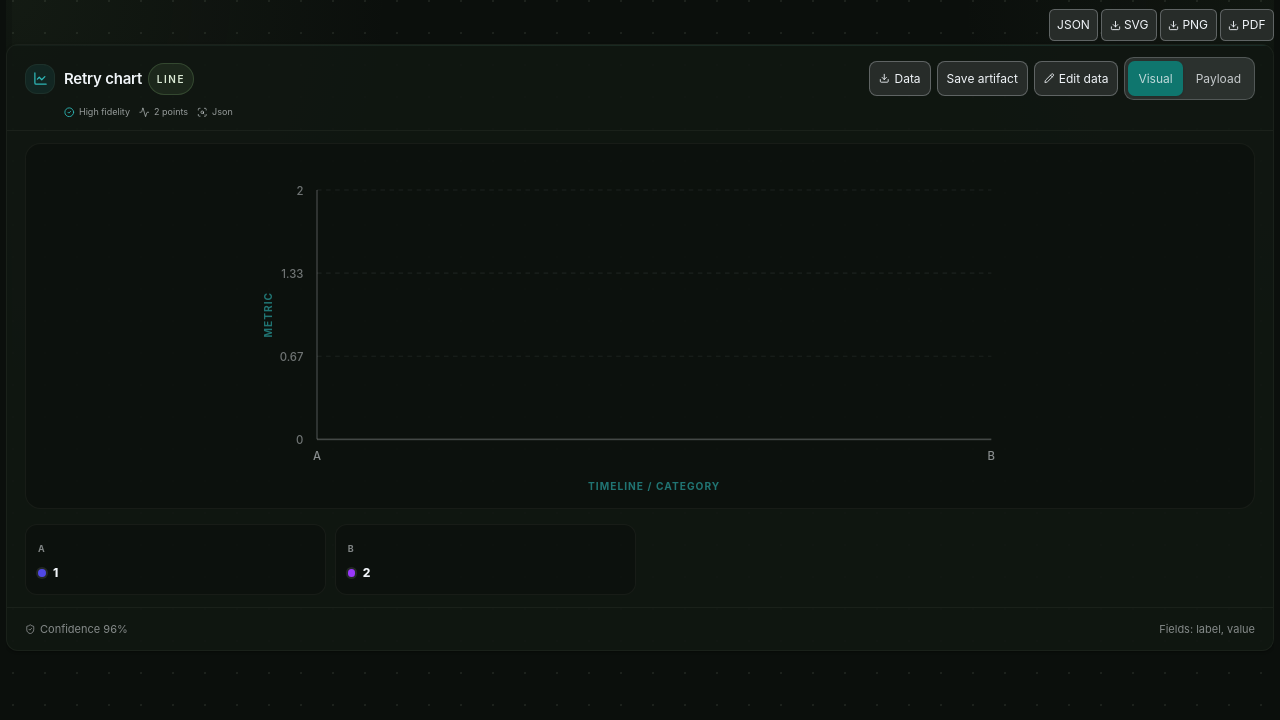
DeepSpace markdown streaming › keeps chart edits open when saving the revision fails
Click the button "Edit data" at (1076, 78), box [1034,61,1118,96]
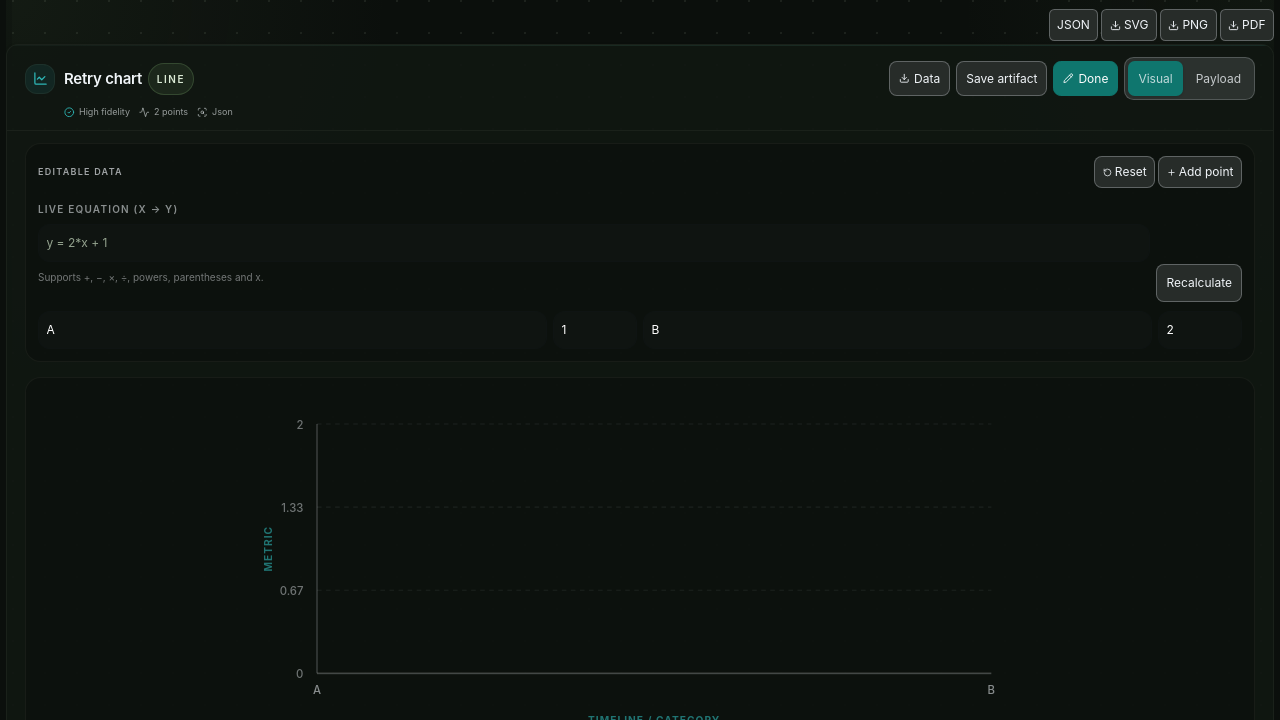
Replace the text in the number field named "Chart point 1 value" with "9" at (595, 330), box [553,310,637,348]
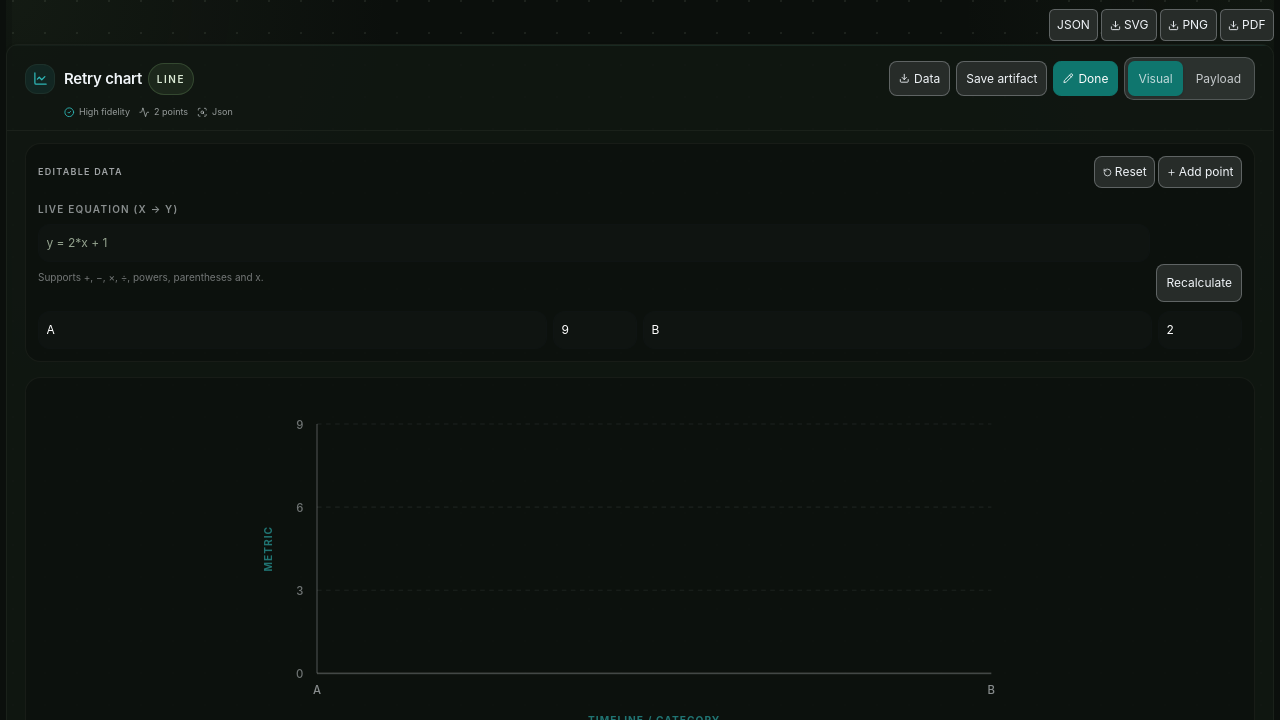
Click the button "Done" at (1086, 78), box [1053,61,1118,96]
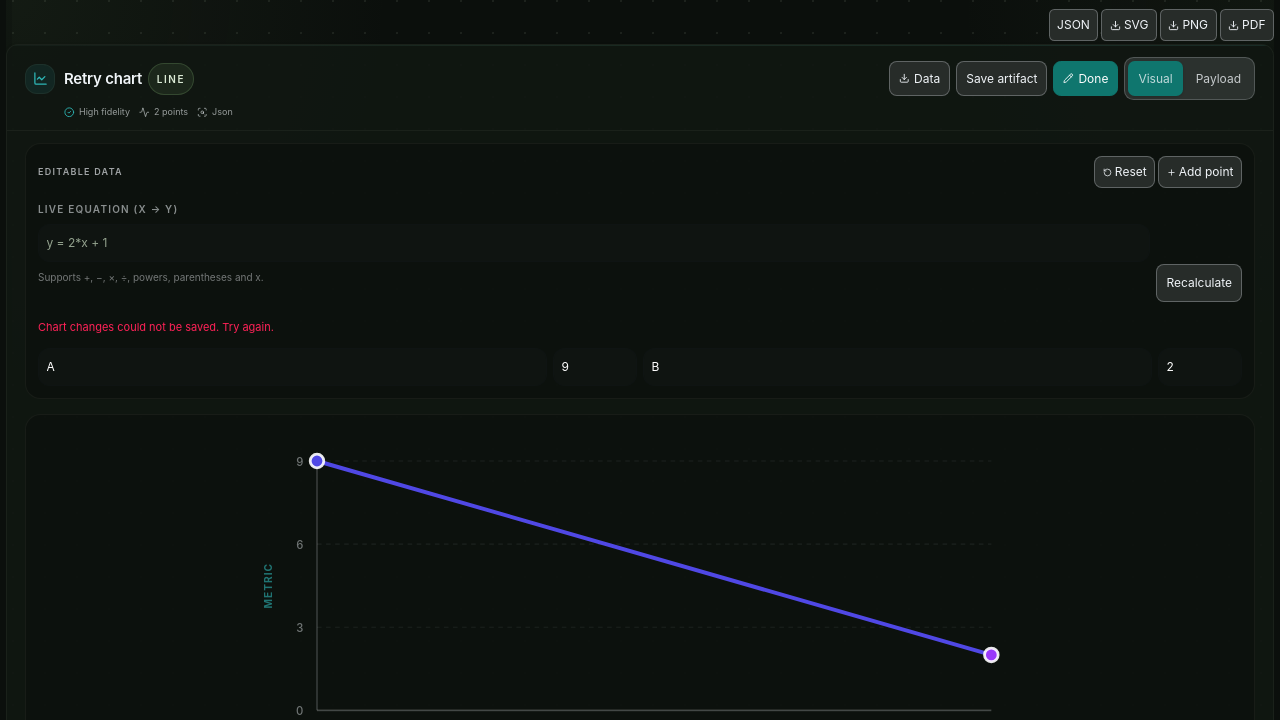
Expected: the button "Done" is shown, [1053,61,1118,96]
Expected: the message reads "Chart changes could not be saved. Try again.", [38,320,274,334]
